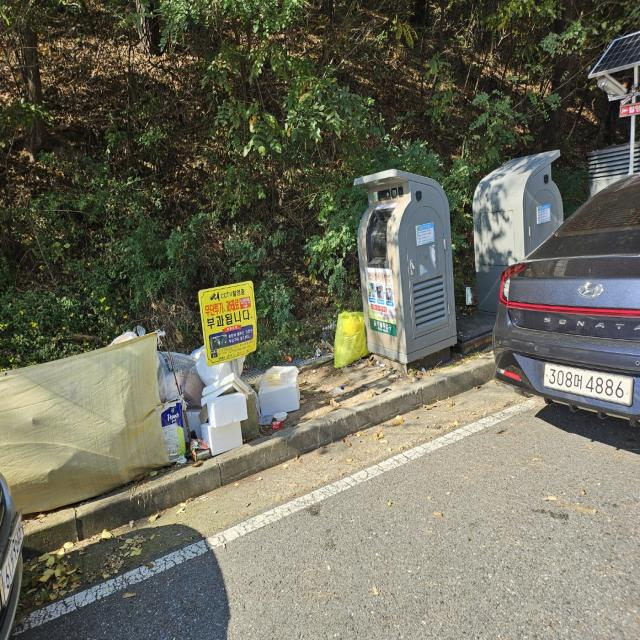CleanNet: (355, 169, 457, 362), (471, 147, 566, 326)
General Waste: (163, 360, 300, 452), (336, 310, 369, 367)
